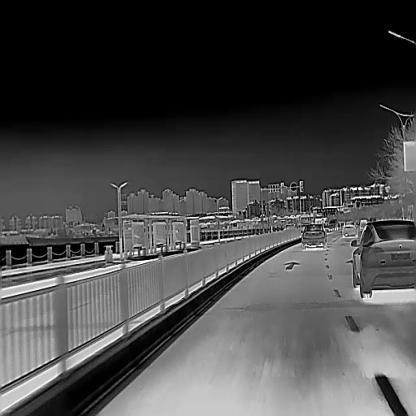car: (351, 218, 416, 297), (301, 223, 327, 249), (342, 220, 358, 237), (328, 218, 338, 230), (359, 218, 367, 230)
